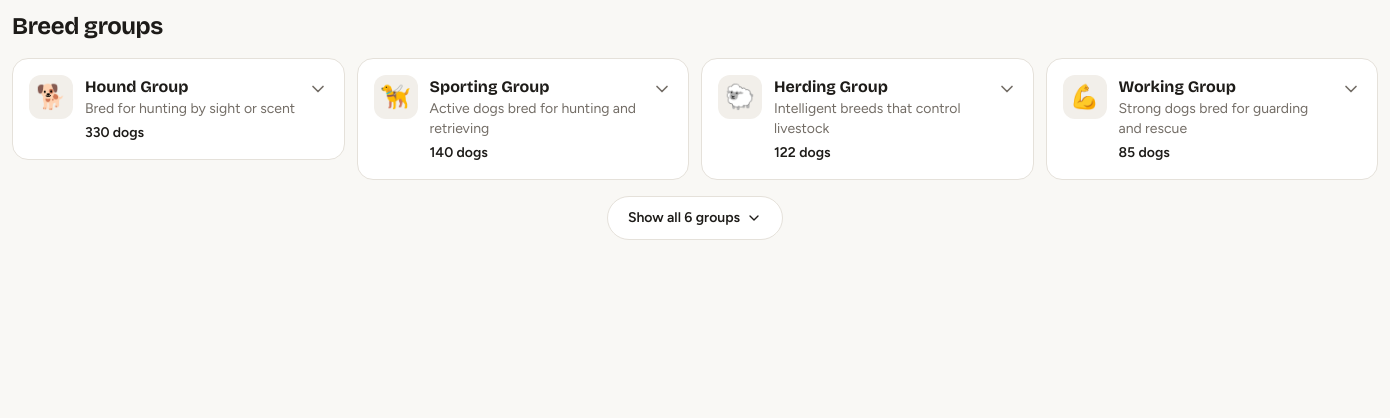
Test case: BreedGroupsSection › allows multiple groups to be expanded simultaneously
Click the button with test id "breed-group-hound-group": x=178, y=109 [13,59,344,159]
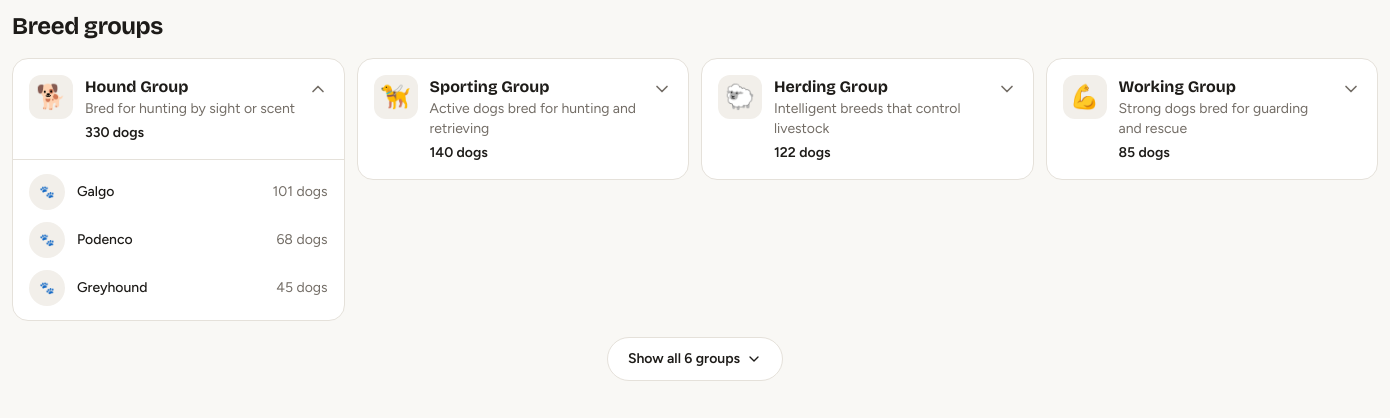
Click the button with test id "breed-group-sporting-group": x=523, y=119 [358,59,688,179]
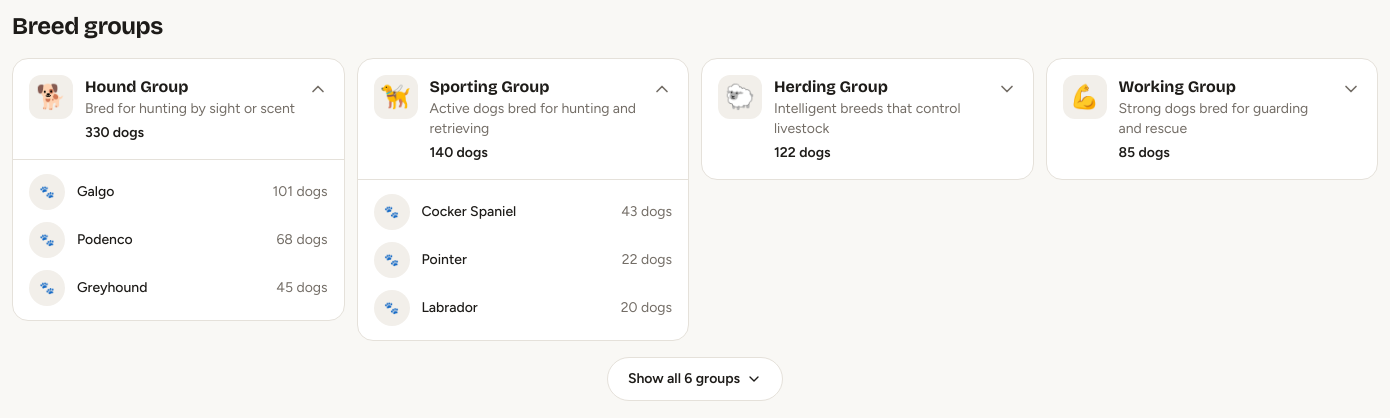
Check: the text "Galgo" is shown, box [77,182,114,202]
Check: the text "Cocker Spaniel" is shown, box [422,202,516,222]
